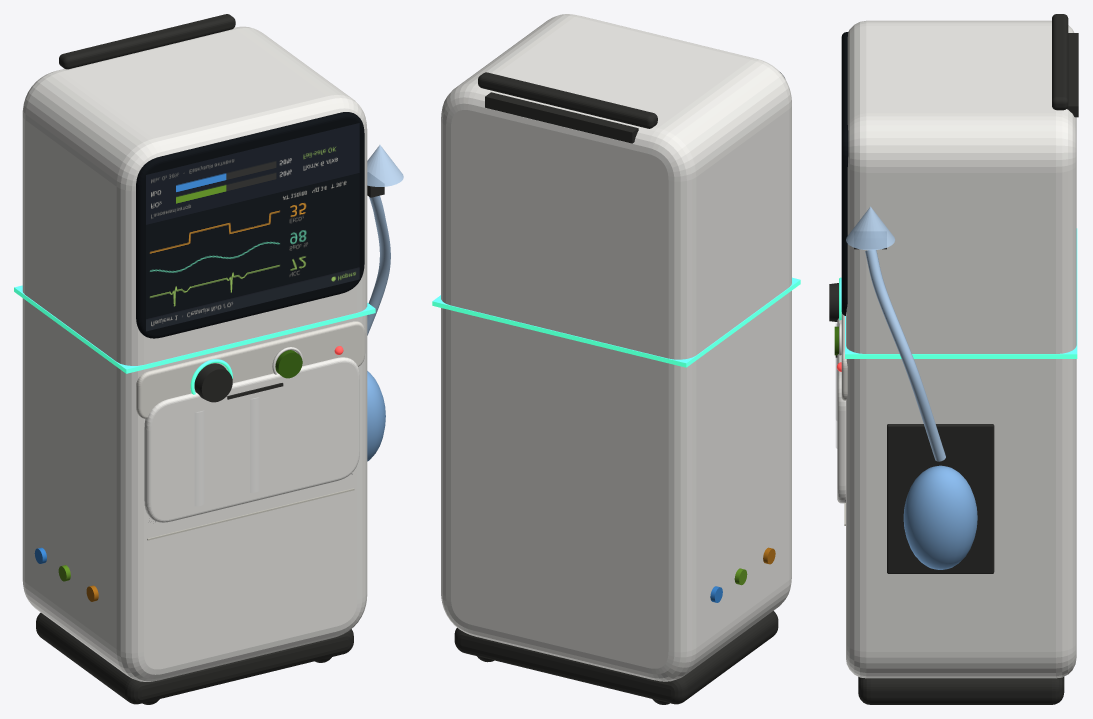
The picture shows the model from 3 angles, left to right: view 1: azimuth 30°, elevation 25°; view 2: azimuth 150°, elevation 25°; view 3: azimuth 270°, elevation 25°; orthographic projection. The views are drawn at different scales.
Visible parts, largest first — view 1: Body, Display_UI, Gas_panel_cover, Display_bezel, Plinth, Control_strip, Handle, Status_strip, Breathing_hose, Reservoir_bag, Mix_knob, Nasal_mask (+3 smaller); view 2: Body, Plinth, Handle, Handle_mount, Status_strip; view 3: Body, Bag_dock, Reservoir_bag, Plinth, Breathing_hose, Display_bezel, Handle, Status_strip, Nasal_mask, Gas_panel_cover, Handle_mount, Control_strip.
Part boxes in pixels (x1,y1,x2,y2): Body: (22, 26, 367, 681); Display_UI: (146, 123, 359, 331); Gas_panel_cover: (144, 357, 359, 522); Display_bezel: (136, 112, 364, 338); Plinth: (36, 612, 353, 704); Control_strip: (136, 321, 365, 418); Handle: (59, 14, 235, 69); Status_strip: (14, 285, 375, 373); Breathing_hose: (367, 195, 390, 335); Reservoir_bag: (367, 371, 385, 461); Mix_knob: (194, 363, 232, 402); Nasal_mask: (367, 145, 403, 186); Body: (441, 14, 791, 681); Plinth: (454, 611, 778, 704); Handle: (478, 72, 657, 128); Handle_mount: (485, 92, 638, 143); Status_strip: (432, 277, 800, 367); Body: (846, 20, 1076, 678); Bag_dock: (887, 424, 994, 573); Reservoir_bag: (903, 465, 977, 569); Plinth: (858, 677, 1064, 704); Breathing_hose: (865, 250, 945, 461); Display_bezel: (841, 32, 848, 315); Handle: (1052, 14, 1068, 110); Status_strip: (845, 228, 1077, 358); Nasal_mask: (846, 206, 894, 250); Gas_panel_cover: (837, 318, 845, 503); Handle_mount: (1067, 33, 1078, 117); Control_strip: (841, 312, 847, 400).
Bounding box in the file's own units: 0.8825 × 1.62 × 0.605.
22 materials, 2 textured.
